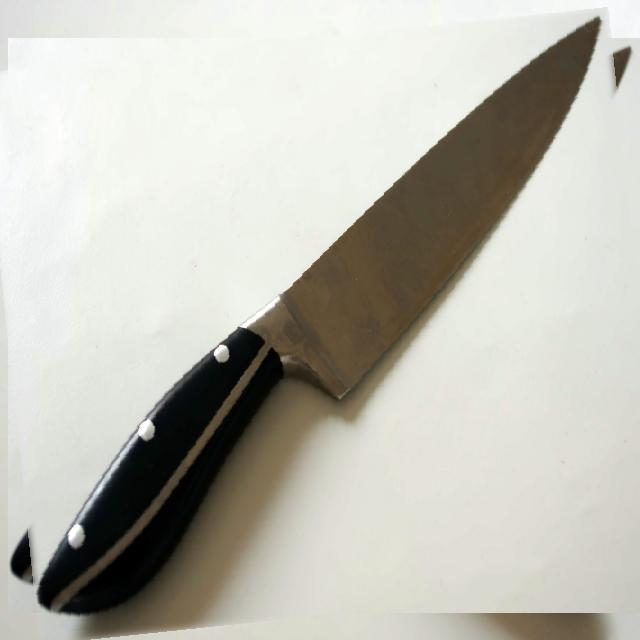knife: (0, 22, 640, 628)
